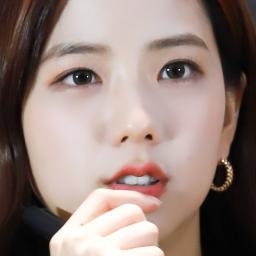face: (29, 0, 215, 192)
